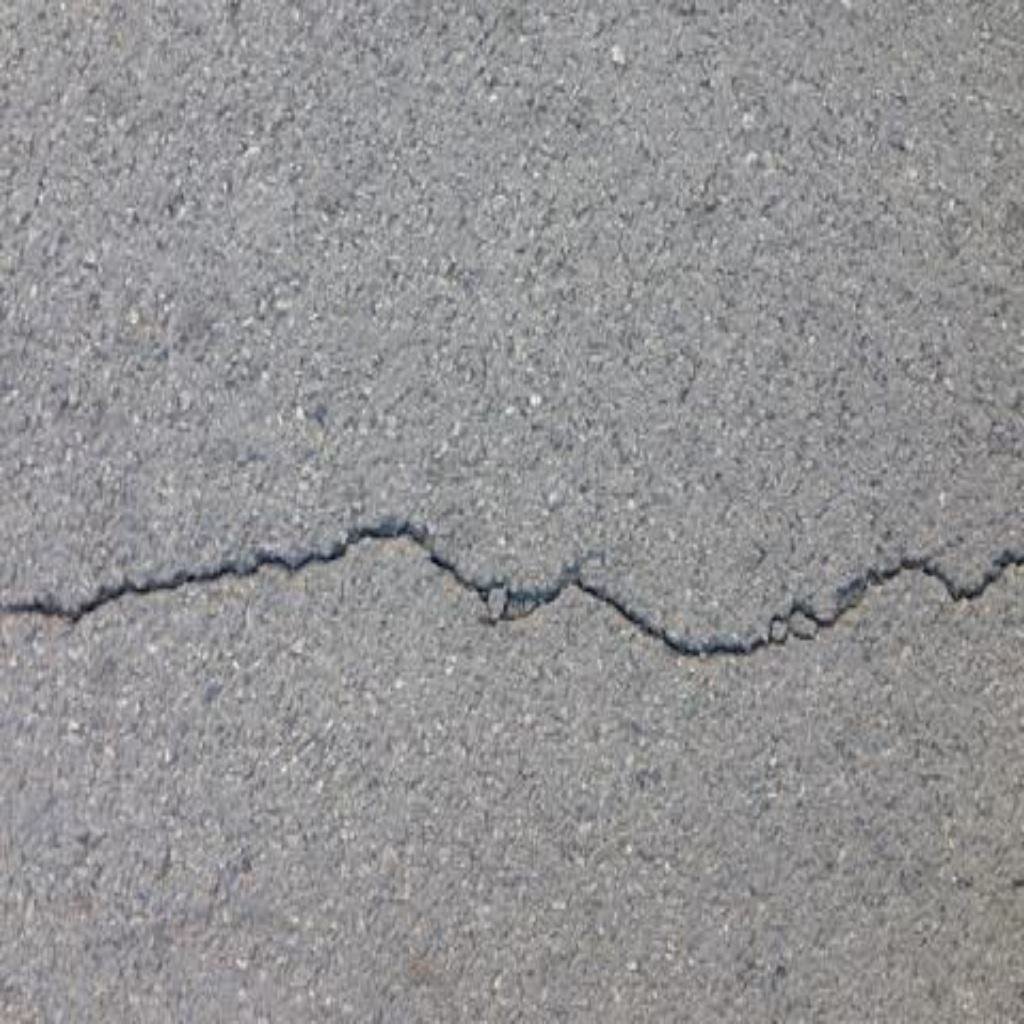Crack: (1, 522, 1024, 661)
